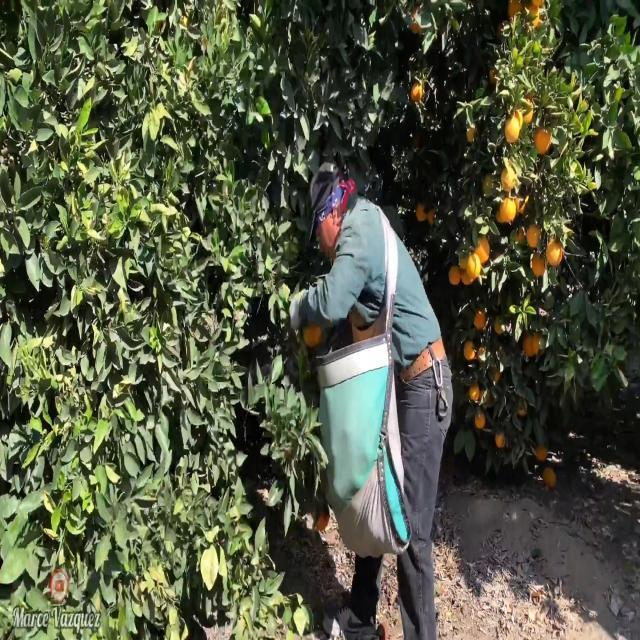Jeruk Sudah Matang: (530, 118, 555, 154), (469, 228, 491, 262), (462, 250, 484, 282), (504, 109, 522, 148), (545, 232, 564, 268), (445, 255, 463, 292), (504, 191, 522, 226), (538, 458, 558, 483), (468, 310, 489, 330), (464, 381, 482, 403), (524, 332, 539, 358), (470, 411, 488, 428), (462, 340, 472, 362), (494, 436, 507, 452)
